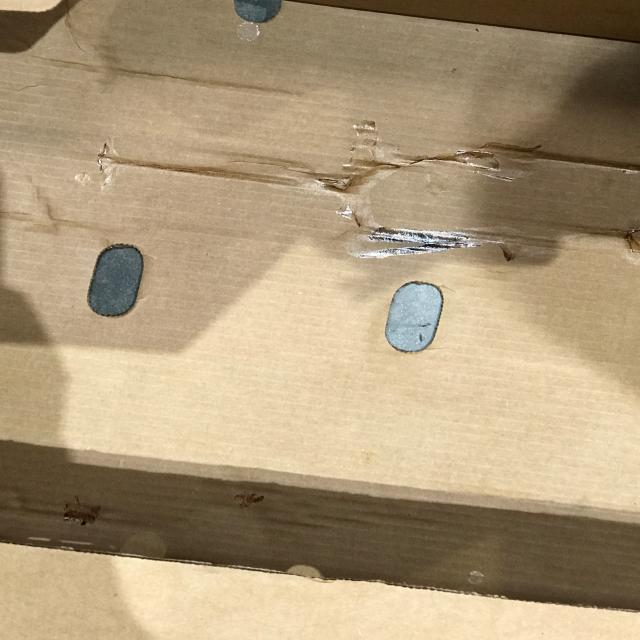cardboard: (1, 1, 638, 612)
